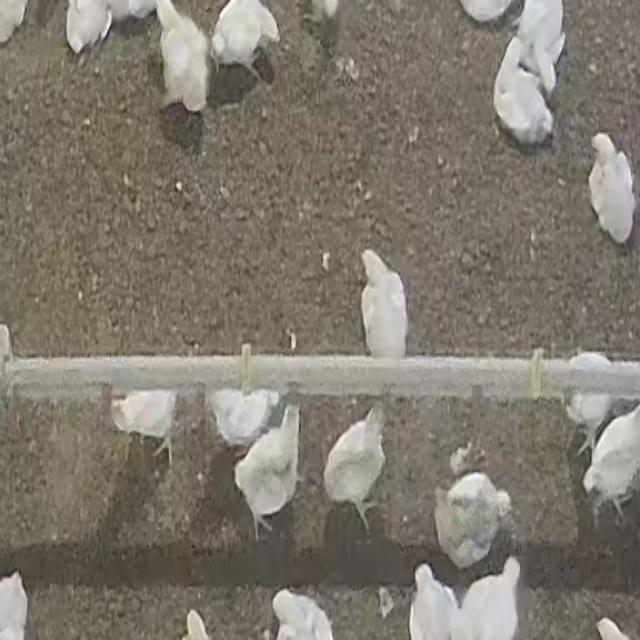chicken: (234, 402, 302, 537), (432, 470, 512, 571), (322, 406, 387, 524), (582, 396, 640, 522), (151, 0, 210, 117), (494, 35, 552, 146), (357, 248, 411, 360), (588, 130, 636, 247), (563, 353, 617, 454), (110, 389, 178, 468), (211, 0, 278, 80), (514, 0, 566, 93), (209, 386, 282, 452)
